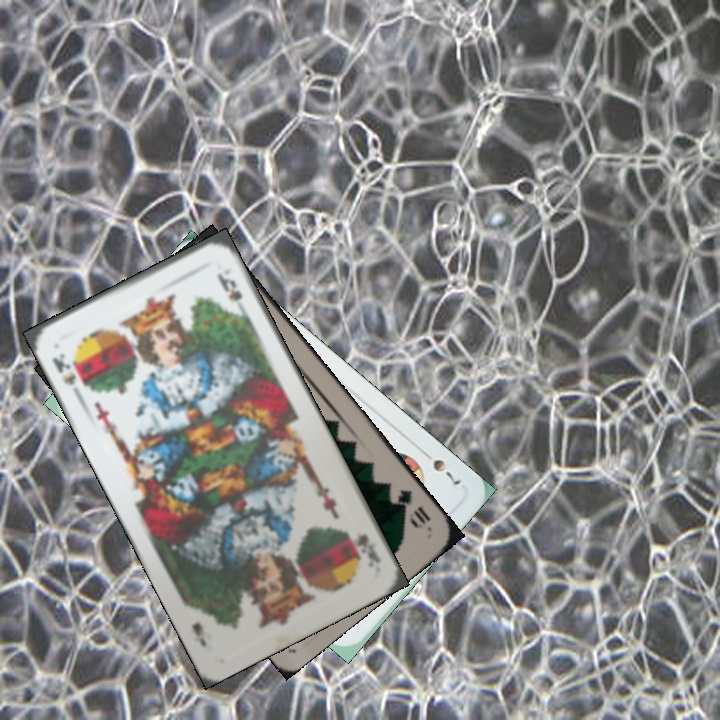G10: (392, 485, 434, 531)
S7: (417, 446, 465, 488)
SK: (48, 349, 88, 400), (342, 526, 384, 571)
